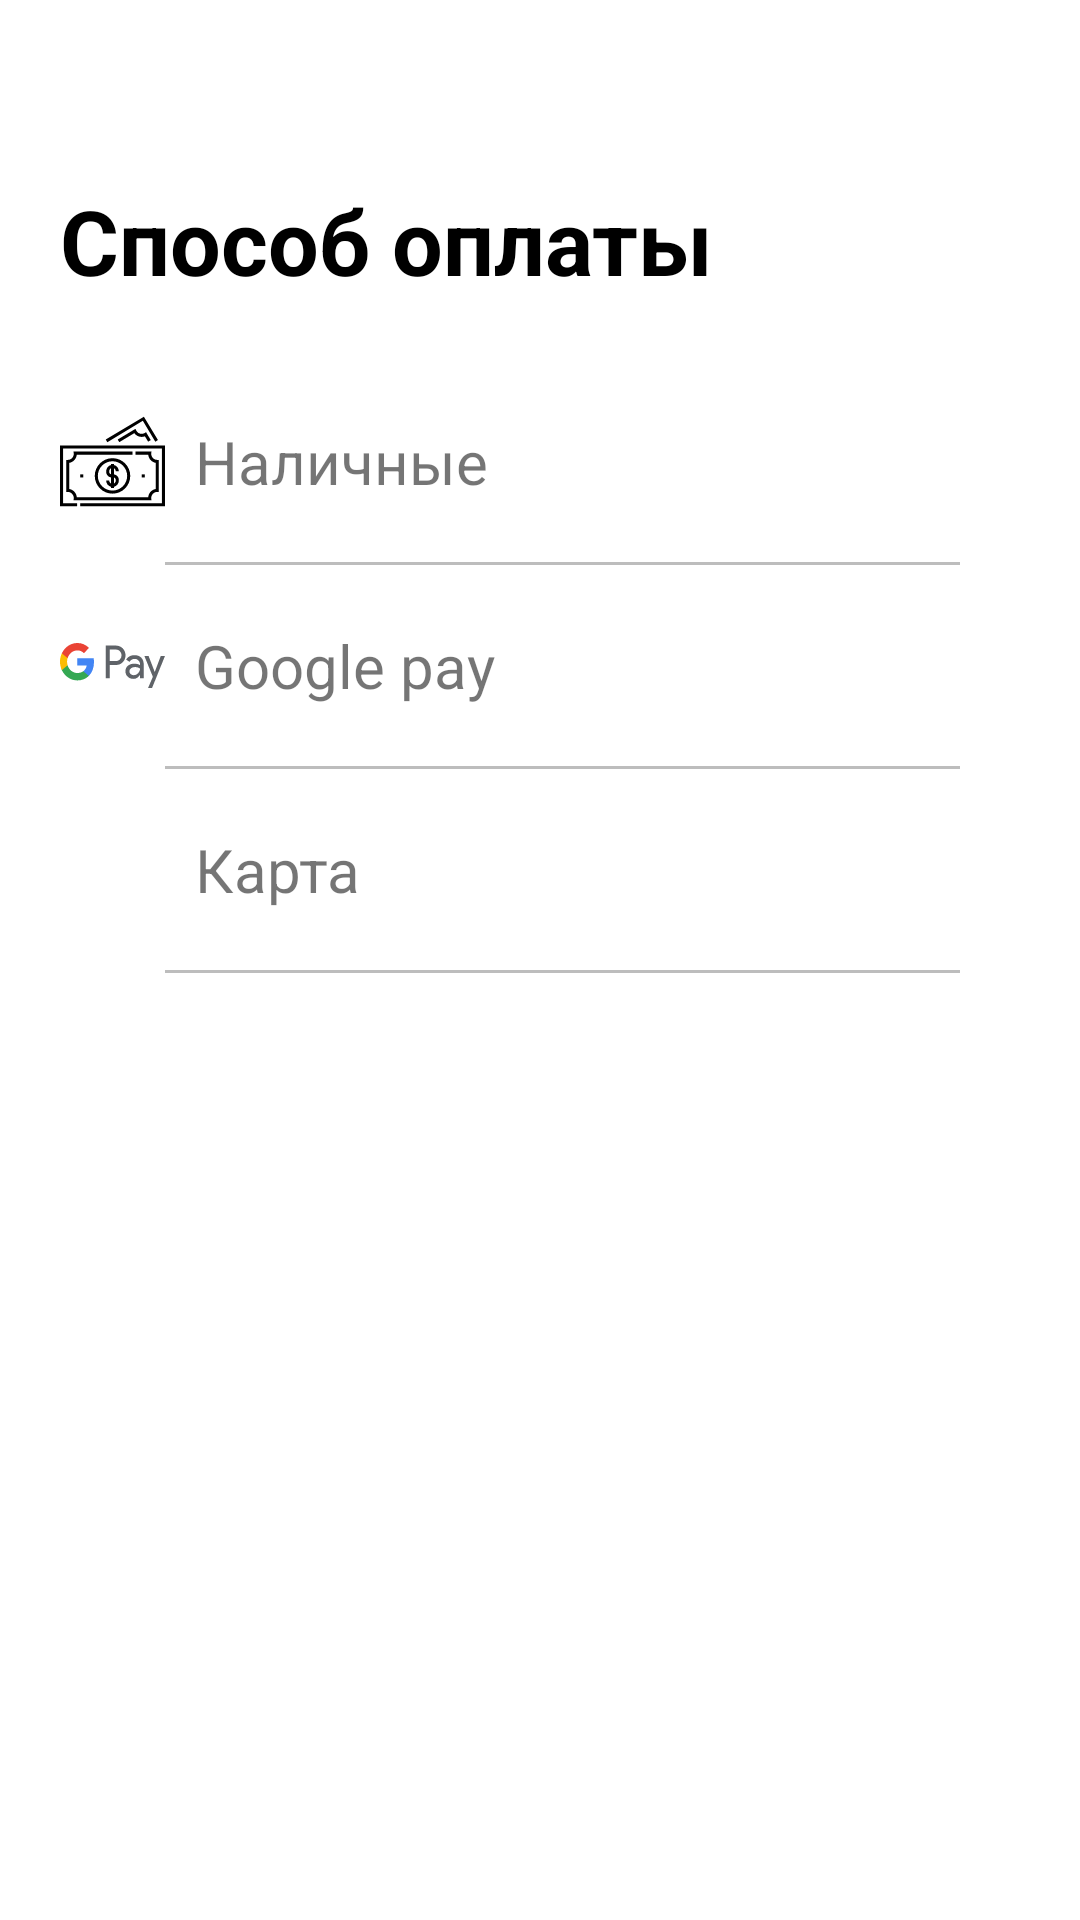

Screen size 1080x1920. Icon name, then its center in pixels as (x,y):
cash: (112,462)
